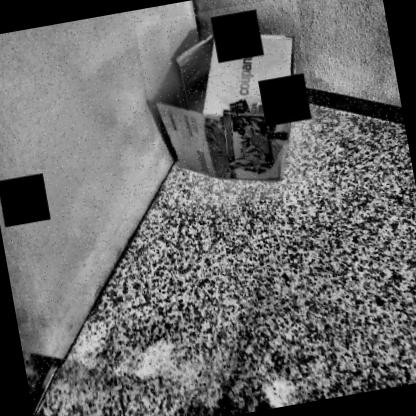box: (134, 0, 328, 214)
